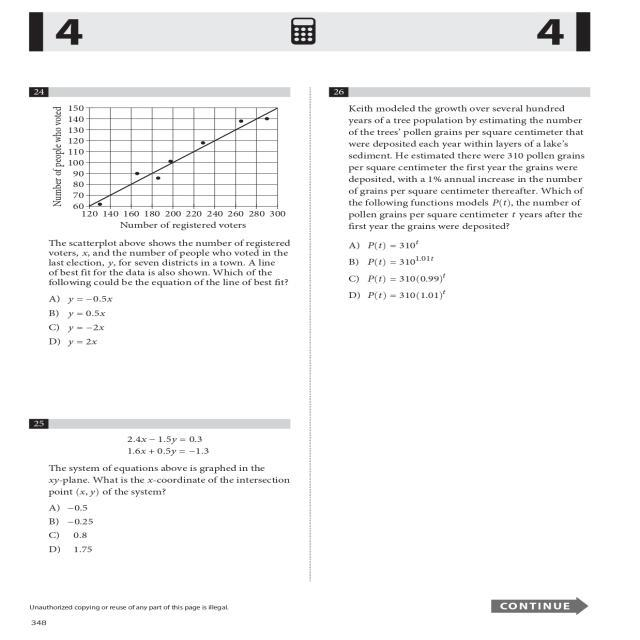Answer_Block: (18, 501, 306, 581), (316, 237, 592, 309), (18, 292, 306, 354)
Question_Answer_Block: (18, 87, 306, 355), (316, 84, 592, 309), (18, 416, 306, 582)
Question_Block: (18, 86, 306, 292), (316, 84, 592, 236), (18, 416, 306, 500)
Question_Paper_Area: (18, 86, 306, 582), (316, 84, 592, 581)
